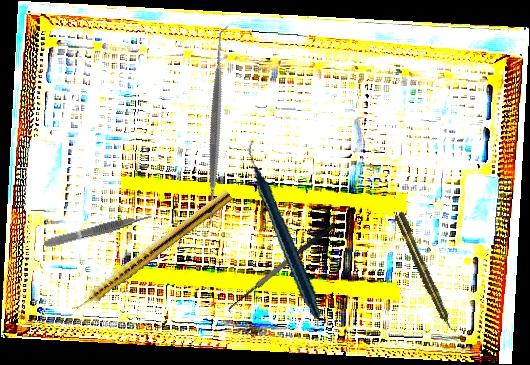Handpiece: (212, 138, 359, 321), (68, 186, 234, 317), (392, 210, 458, 336)
Spatula Surgical: (114, 25, 318, 229), (223, 221, 344, 319)
Tissue Forceps: (42, 211, 154, 250)
